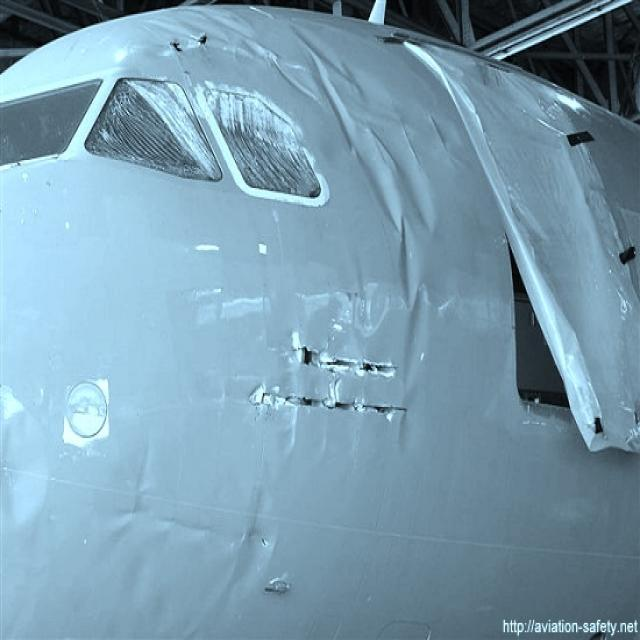crack: (259, 338, 417, 424)
dent: (286, 23, 463, 461)
